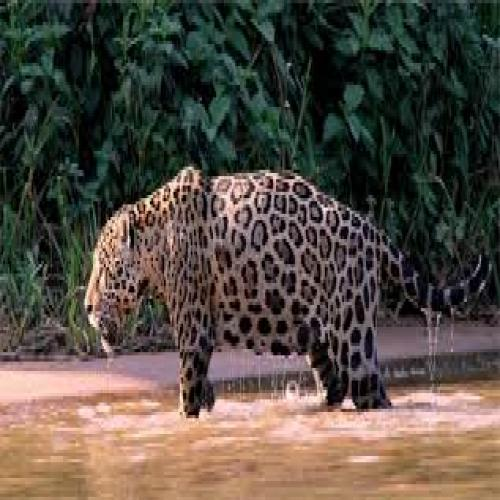jaguar_not-endangered: (84, 162, 492, 408)
